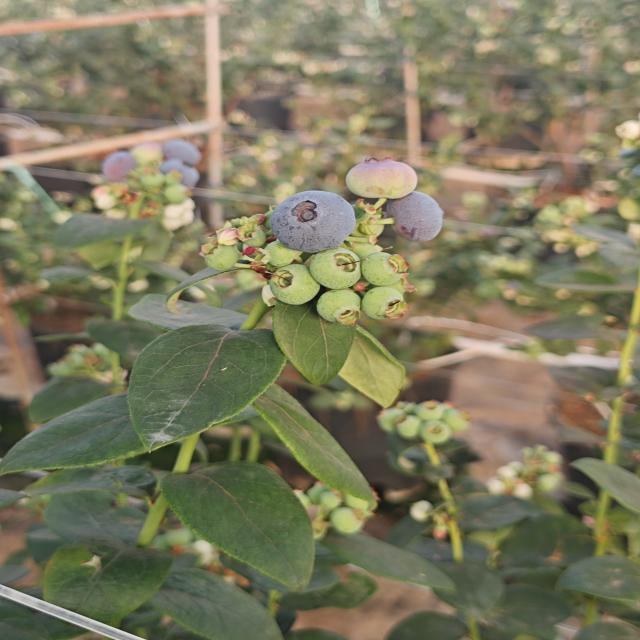ripe: (266, 188, 359, 254), (382, 190, 446, 244), (161, 138, 208, 185)
